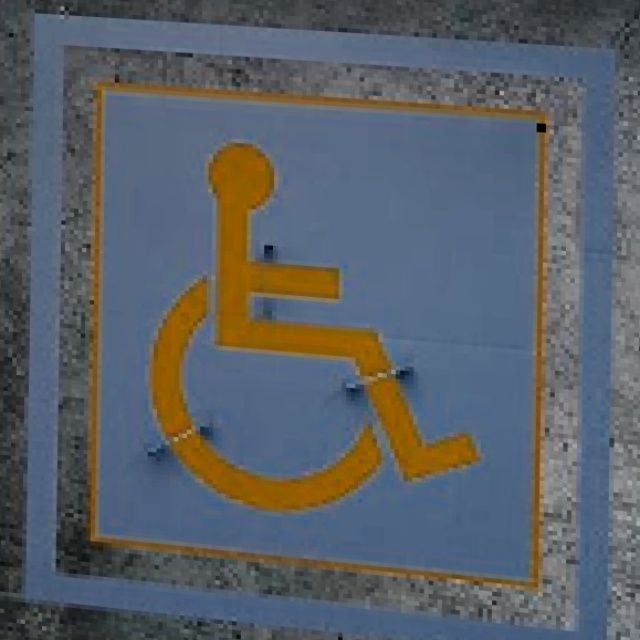ISA: (145, 135, 485, 532)
